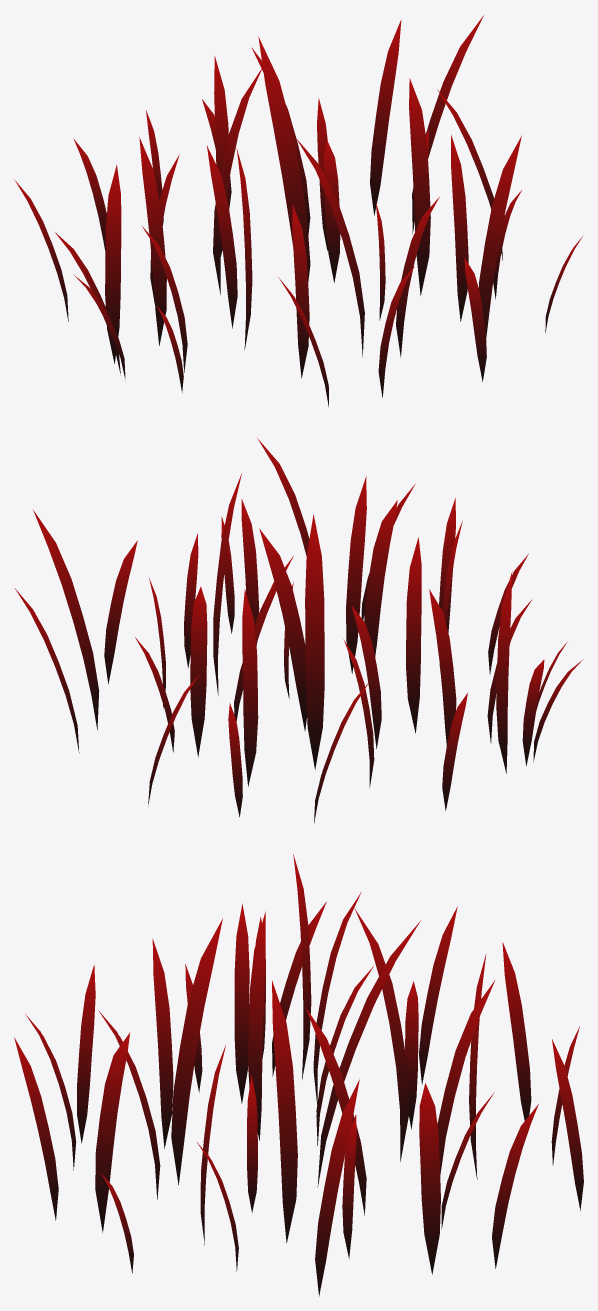
The model's file is grass.fbx.
The picture shows the model from 3 angles, top to bottom: view 1: azimuth 30°, elevation 25°; view 2: azimuth 150°, elevation 25°; view 3: azimuth 270°, elevation 25°; orthographic projection. The views are drawn at different scales.
Parts seen in each view (by area): view 1: grass; view 2: grass; view 3: grass.
Boxes of the visible parts, x1,y1,x2,y2 form: grass: (14,15,583,406); grass: (15,438,583,823); grass: (14,854,583,1296).
Size of the model in its own units: 334 by 159 by 304.
